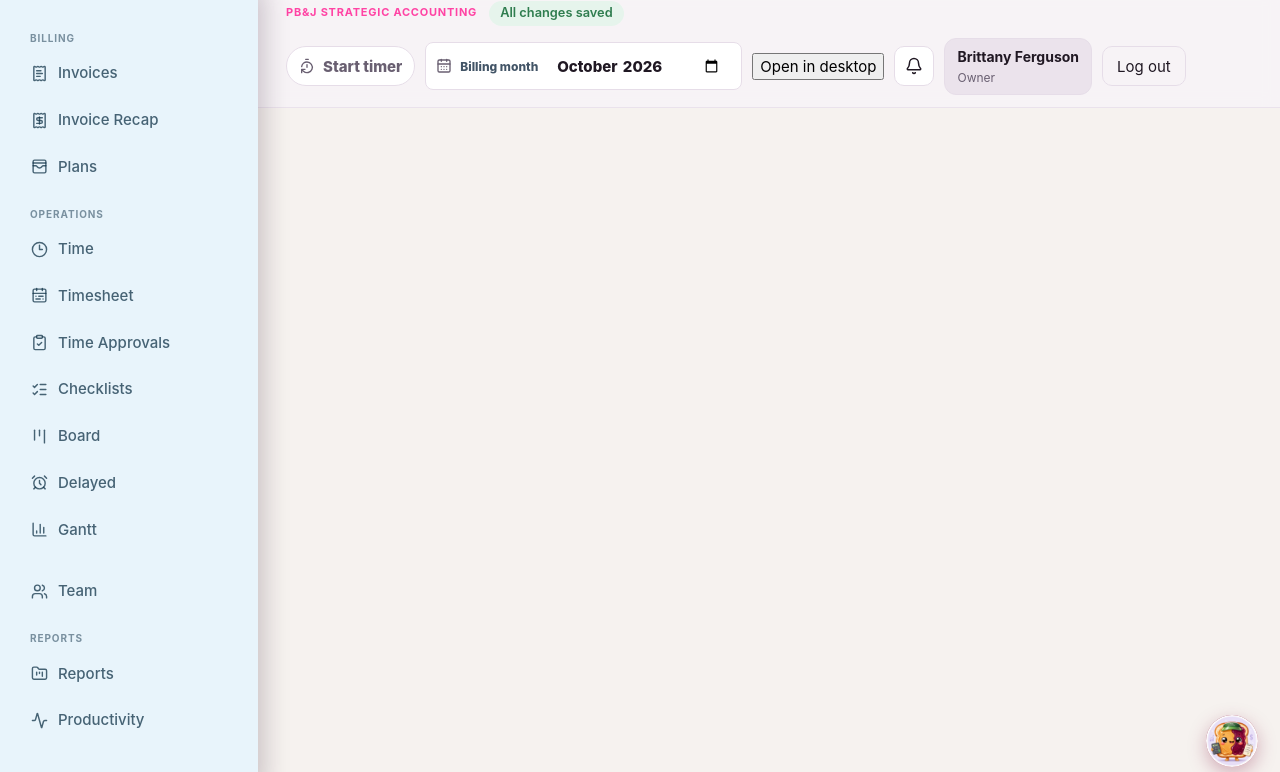
the recycle bin and a removed case › labels the set, and one Restore brings every step of the case back
(page scrolled)
Click the link "Checklists" at (82, 389), box [31,379,133,398]
(page scrolled)
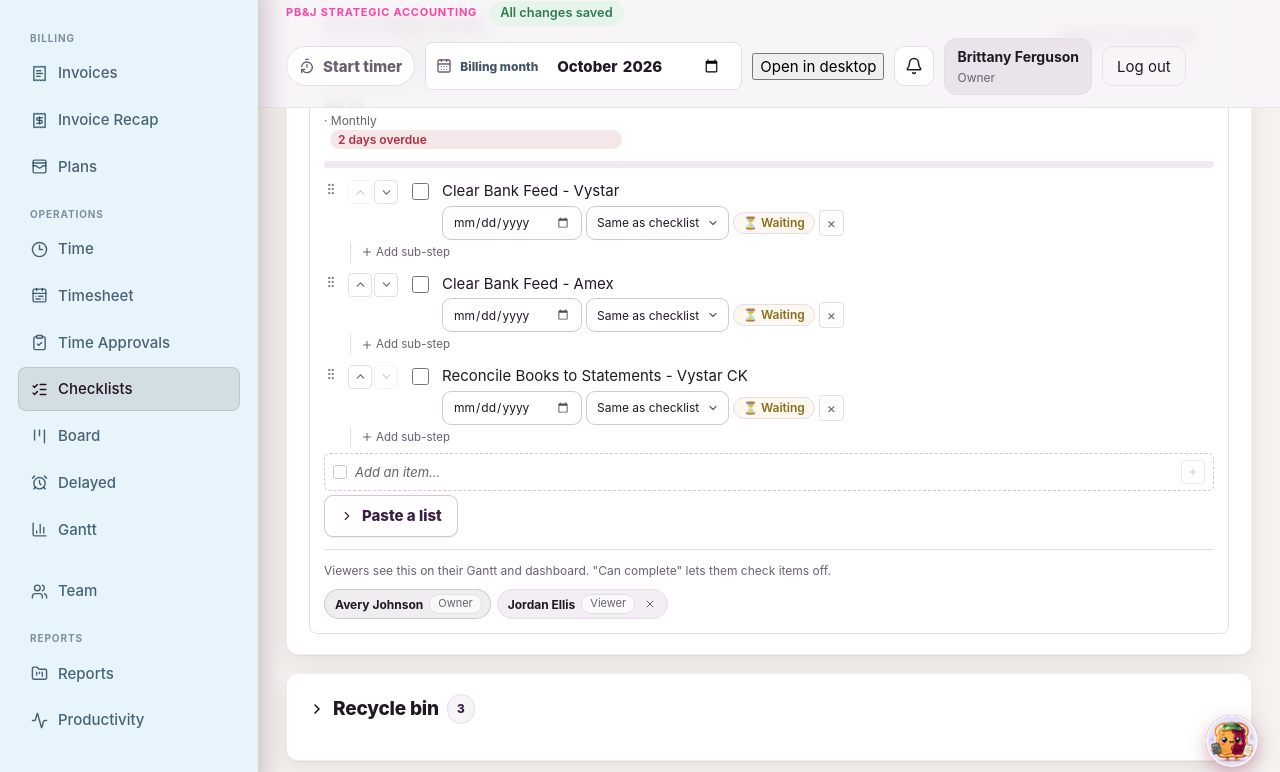
Expected: the link "Checklists" is marked as current, [18,367,240,411]
Click the button "Recycle bin 3" at (392, 709), box [309,694,475,724]
(page scrolled)
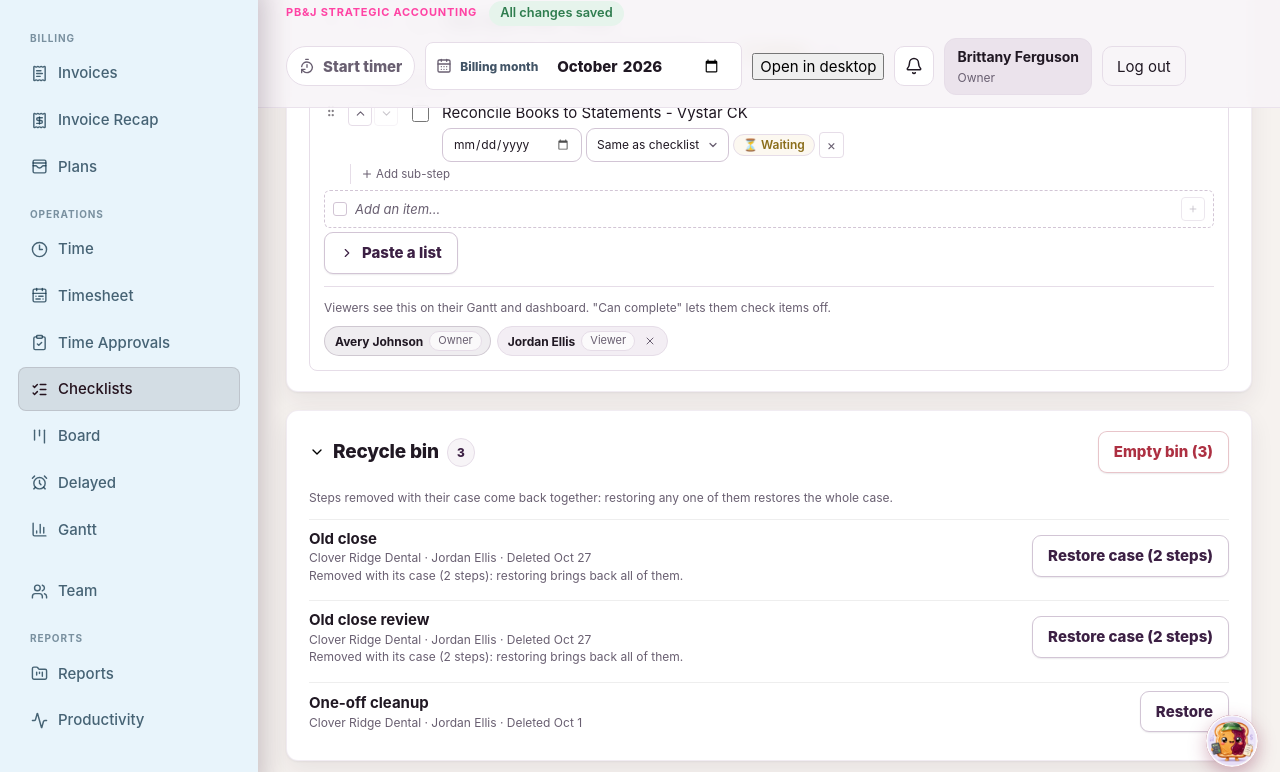
Expected: the text "restoring any one of them restores the whole case" is shown, [309,490,893,505]
Expected: the text "Removed with its case (2 steps)" below "Old close review" is shown, [309,648,683,666]
Expected: the button "Restore" is shown, [1140,691,1229,732]
Click the button "Restore case (2 steps)" in the row of "Old close review" at (1131, 637), box [1032,616,1229,658]
(page scrolled)
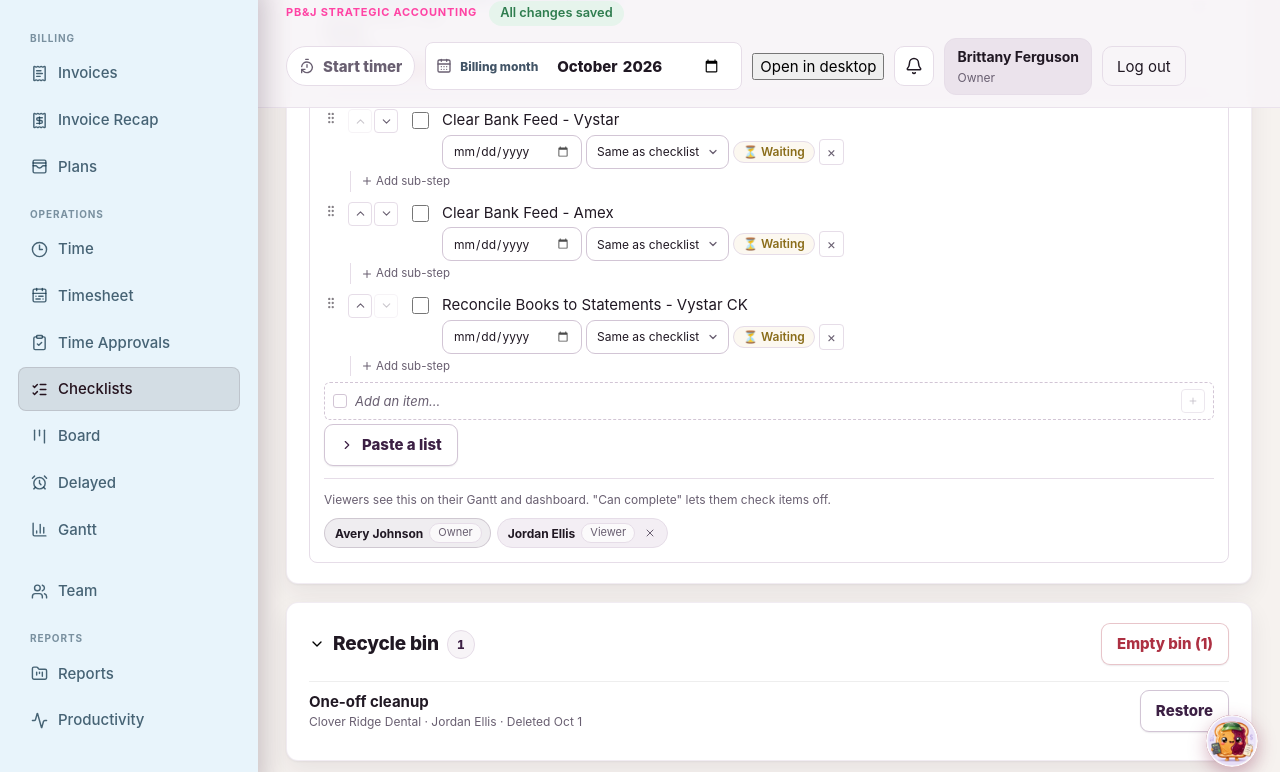
Expected: the text "One-off cleanup" is shown, [309,692,429,712]
Expected: the text "Old close review" is gone
Expected: the text "Old close" is gone
